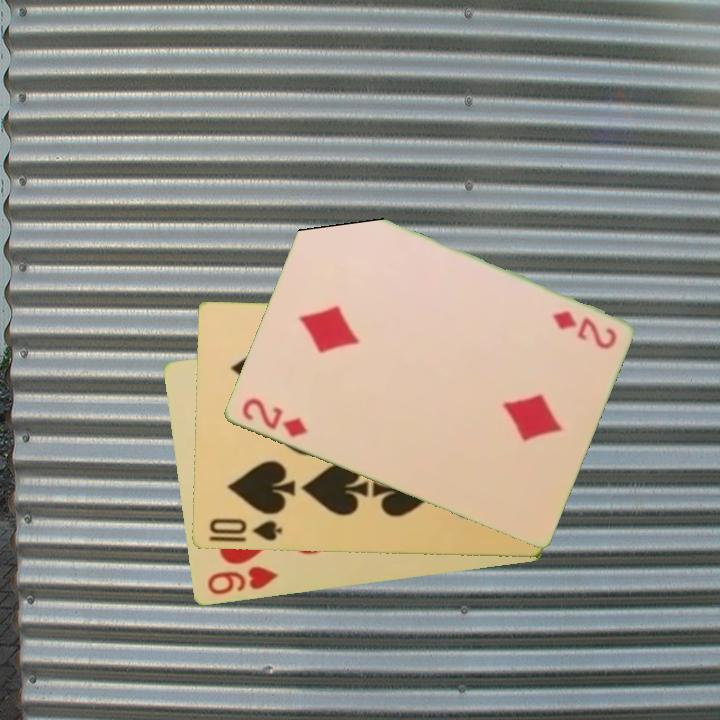10s: (205, 515, 285, 545)
2d: (238, 394, 310, 440), (548, 307, 619, 351)
9h: (203, 563, 281, 598)
